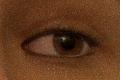eye: (52, 33, 84, 56)
